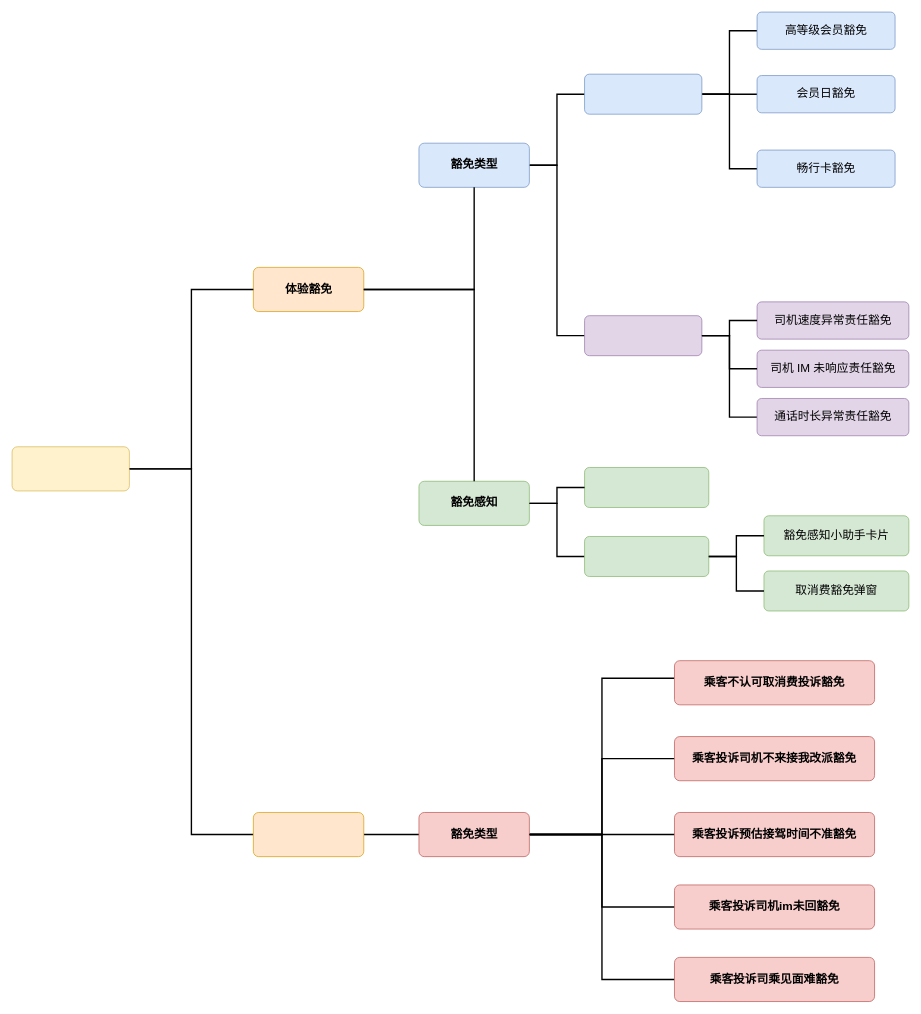
Image size: 921x1014. Some labels were removed from this diagram. The centre of each missing label's shape, as x and y in pixels:
"乘客取消费豁免" goes at point (70, 468).
"取消前豁免提示" goes at point (646, 487).
"取消结果豁免提示" goes at point (646, 556).
"投诉豁免" goes at point (308, 834).
"用户权益类" goes at point (643, 93).
"责任豁免类" goes at point (643, 335).
